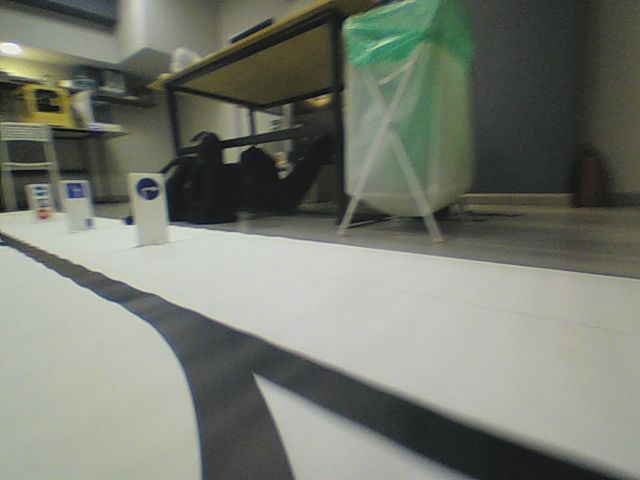Right: (134, 176, 161, 201)
